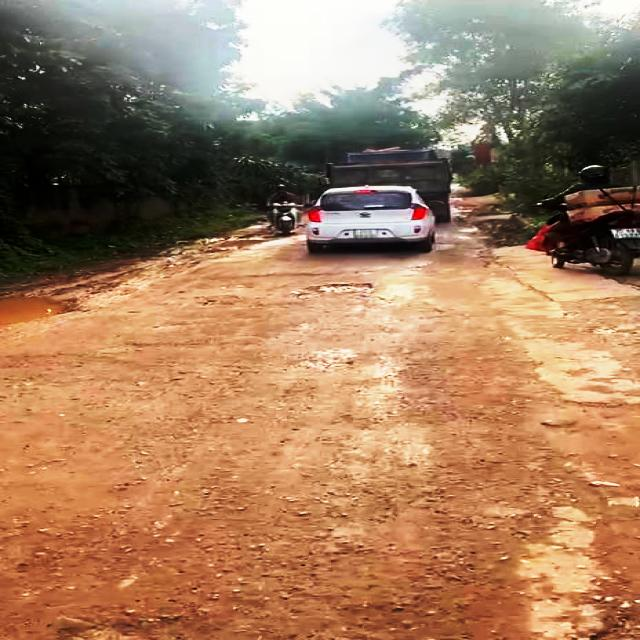pothole: (535, 394, 640, 521), (0, 294, 88, 331), (306, 282, 378, 298)
